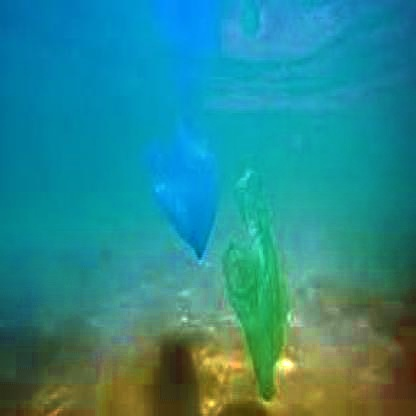pbag: (222, 166, 288, 409), (146, 113, 227, 262)
